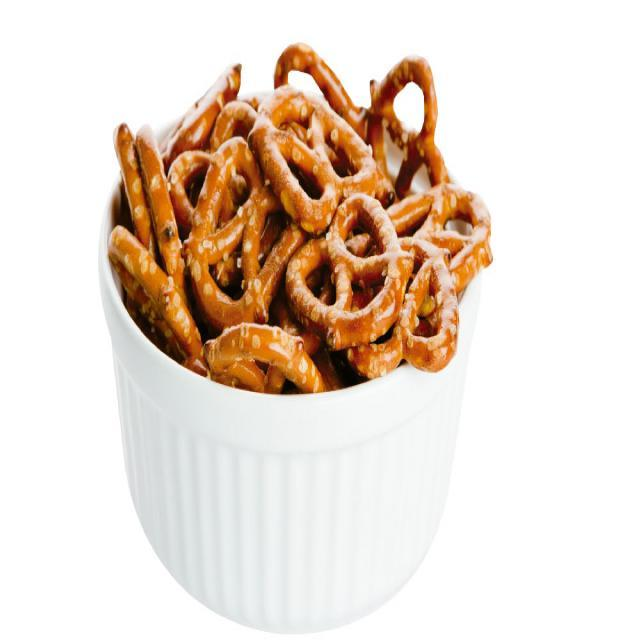Salatini: (107, 41, 493, 391)
